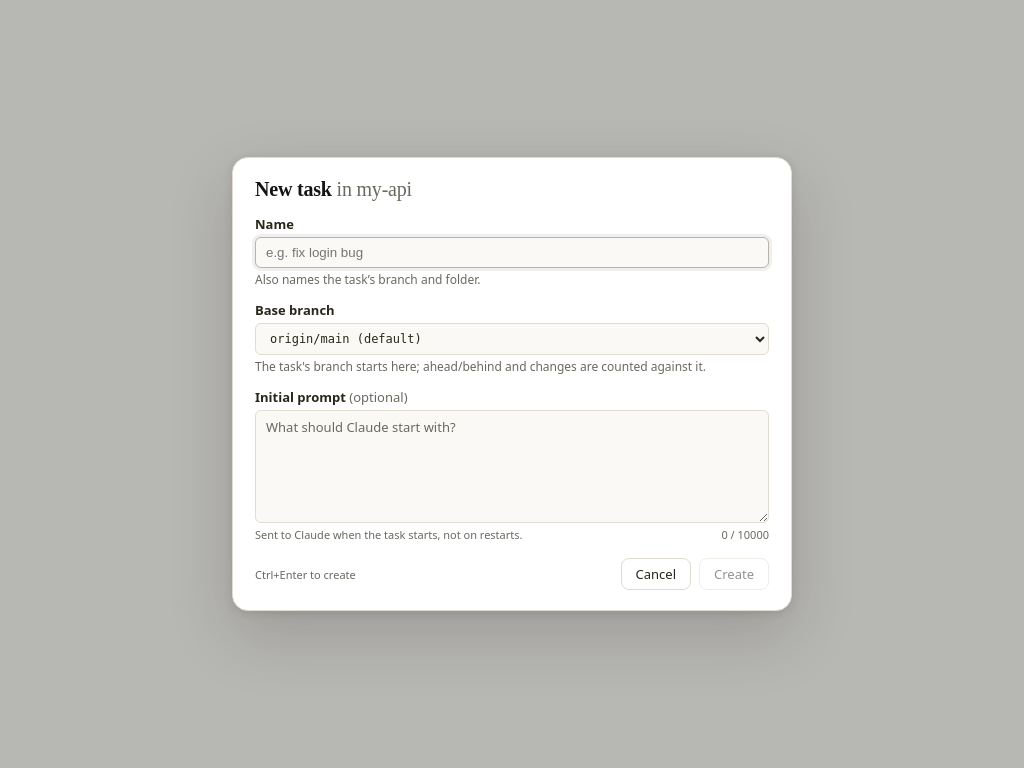
NewTaskDialog name › shows the branch the name gives as it is typed
Step 1. Type "Add search!" into the field labelled "Name" → (512, 252), box [255,237,769,268]
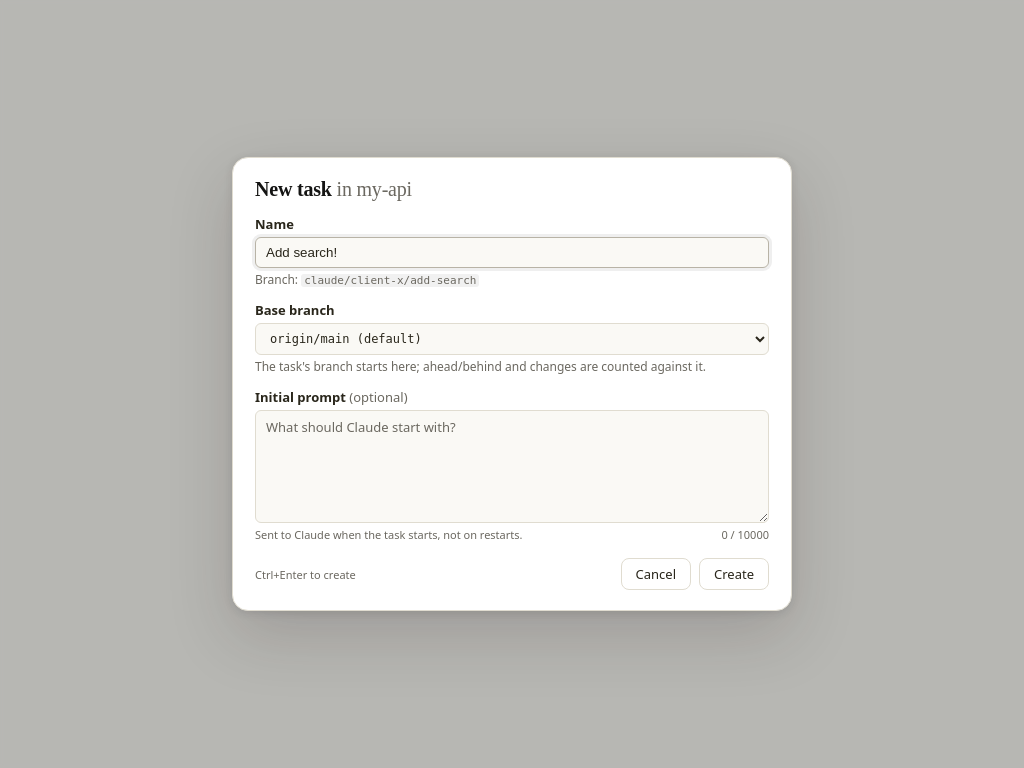
Now the button "Create" is enabled, box [699,558,769,590]
